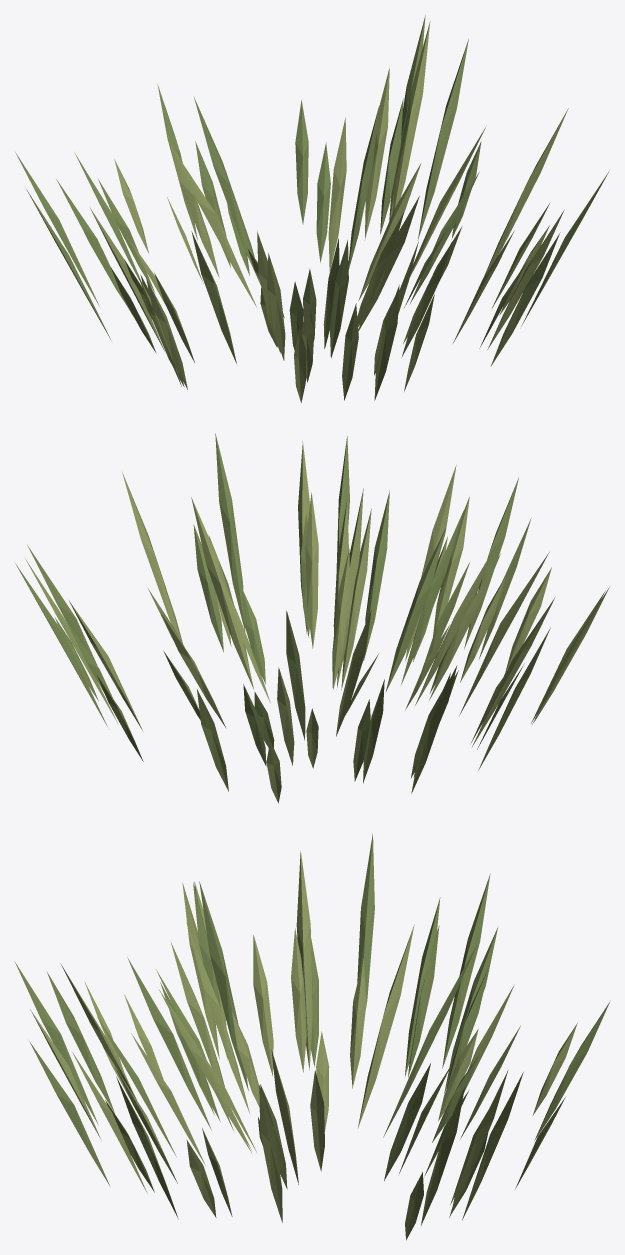
Rendered from Grass1.fbx.
3 renders of one model, top to bottom at view 1: azimuth 30°, elevation 25°; view 2: azimuth 150°, elevation 25°; view 3: azimuth 270°, elevation 25°, orthographic. The views are drawn at different scales.
Visible parts, largest first — view 1: Grass1_LOD0; view 2: Grass1_LOD0; view 3: Grass1_LOD0.
Part boxes in pixels (x1=…): Grass1_LOD0: x1=15, y1=15, x2=609, y2=402; Grass1_LOD0: x1=15, y1=433, x2=609, y2=803; Grass1_LOD0: x1=14, y1=833, x2=610, y2=1240.
Size of what is drawn, in the model's own units: 83.38 by 28.77 by 83.9.
1 material, 1 textured.
